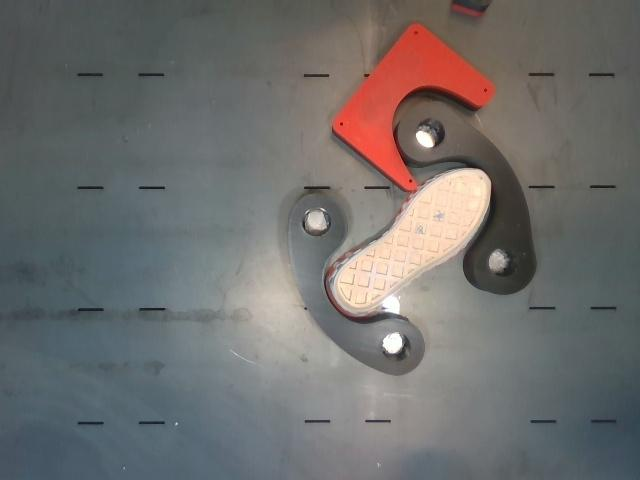shoes: (335, 170, 491, 311)
